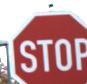Stop sign: (0, 0, 86, 83)
